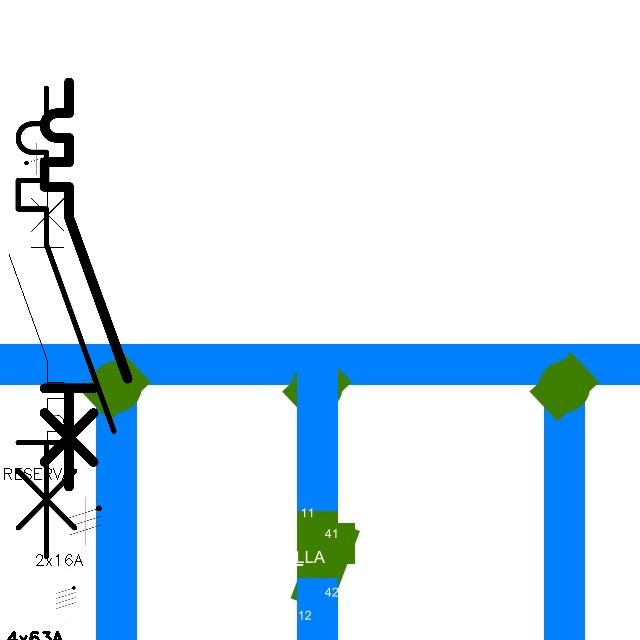interruptor_termomagnetico: (6, 76, 126, 568), (34, 72, 138, 497), (2, 175, 71, 459)
